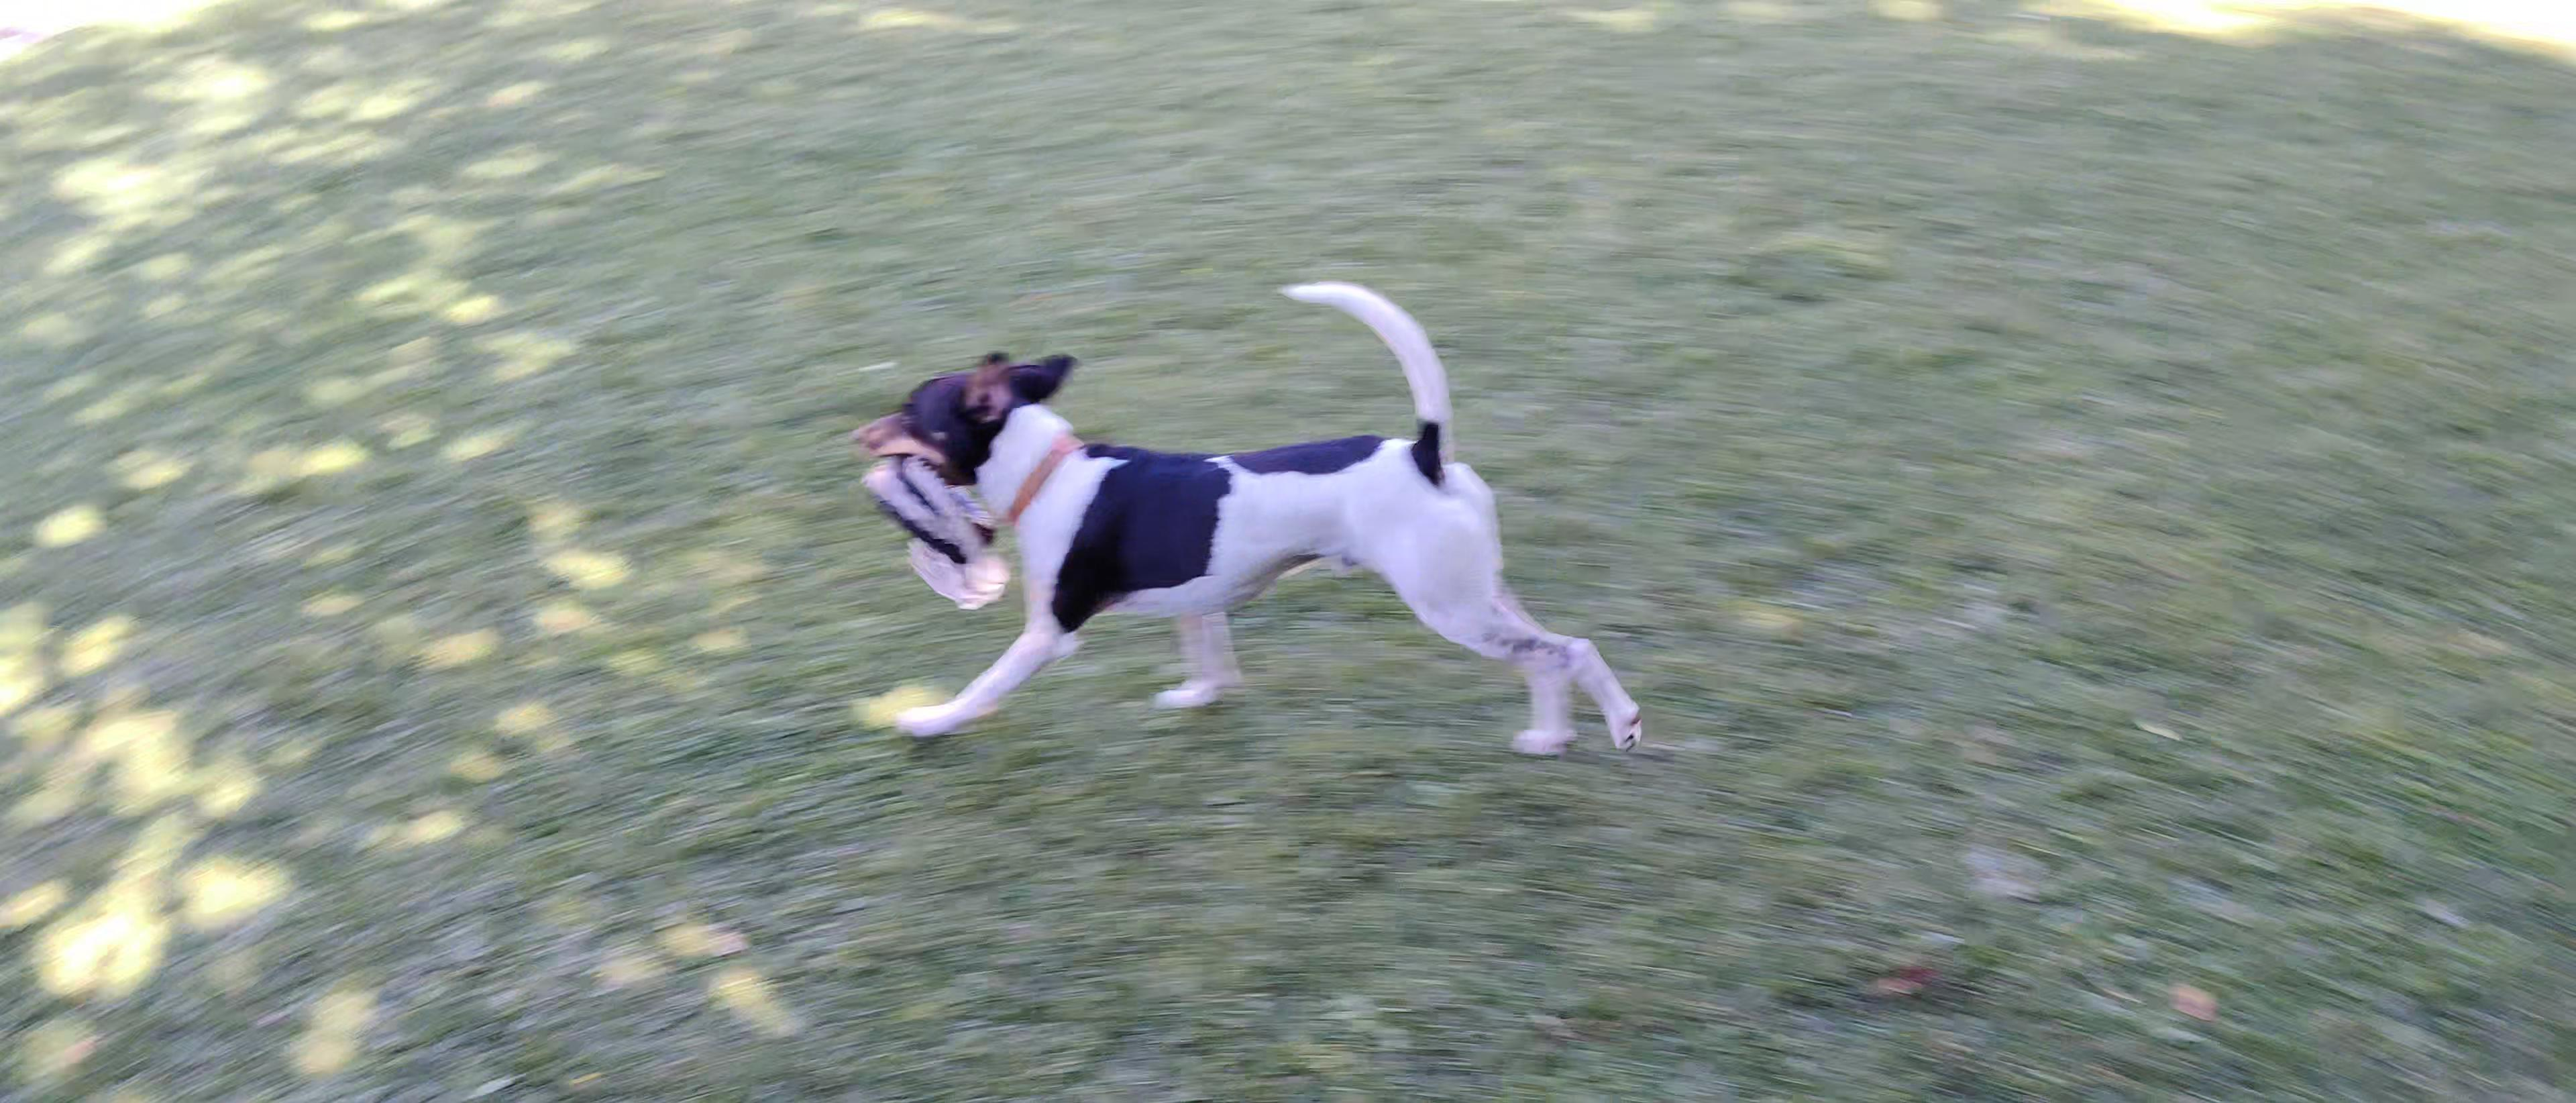Dog: (836, 275, 1671, 781)
